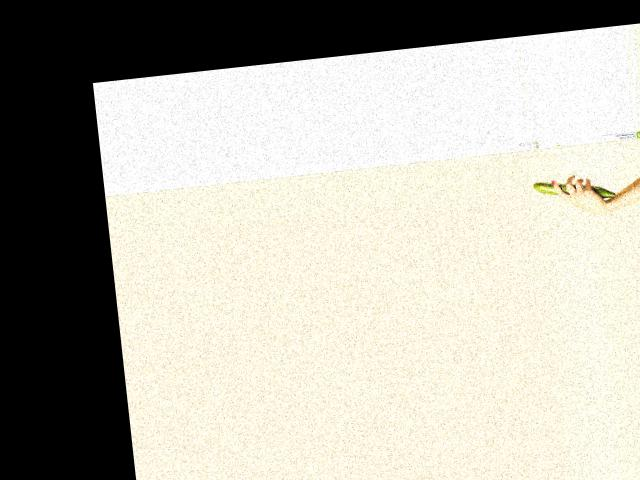cucumber: (532, 173, 616, 205)
